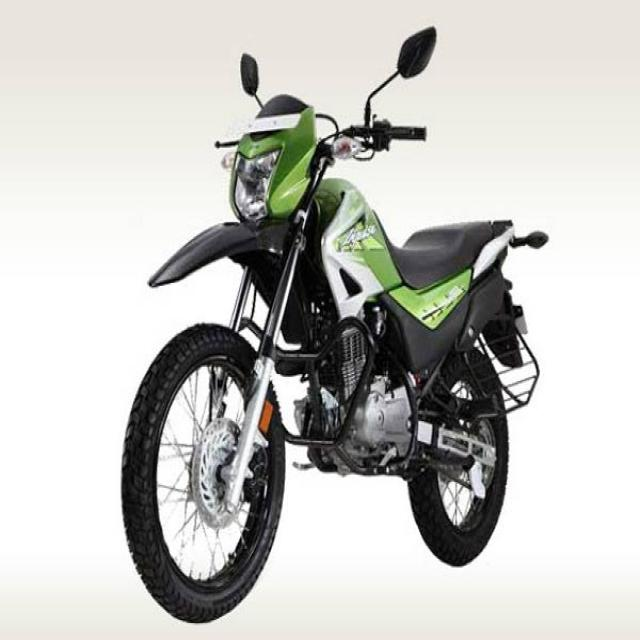motorcycle: (121, 95, 549, 622)
